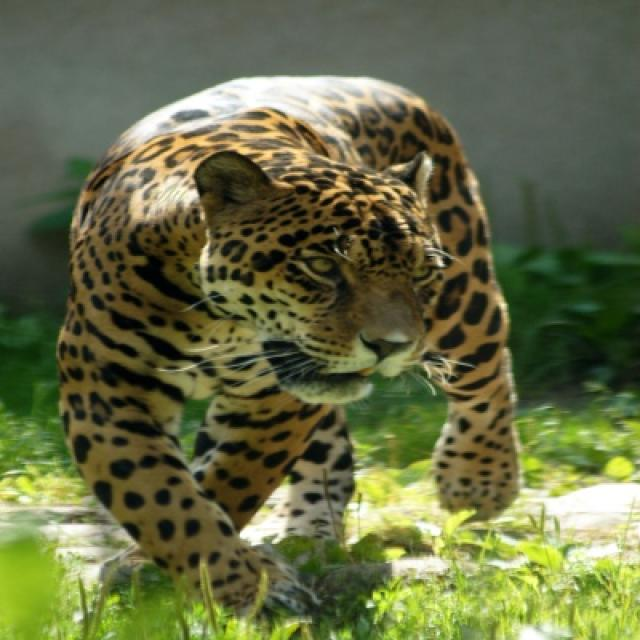Jaguar: (54, 77, 523, 622)
